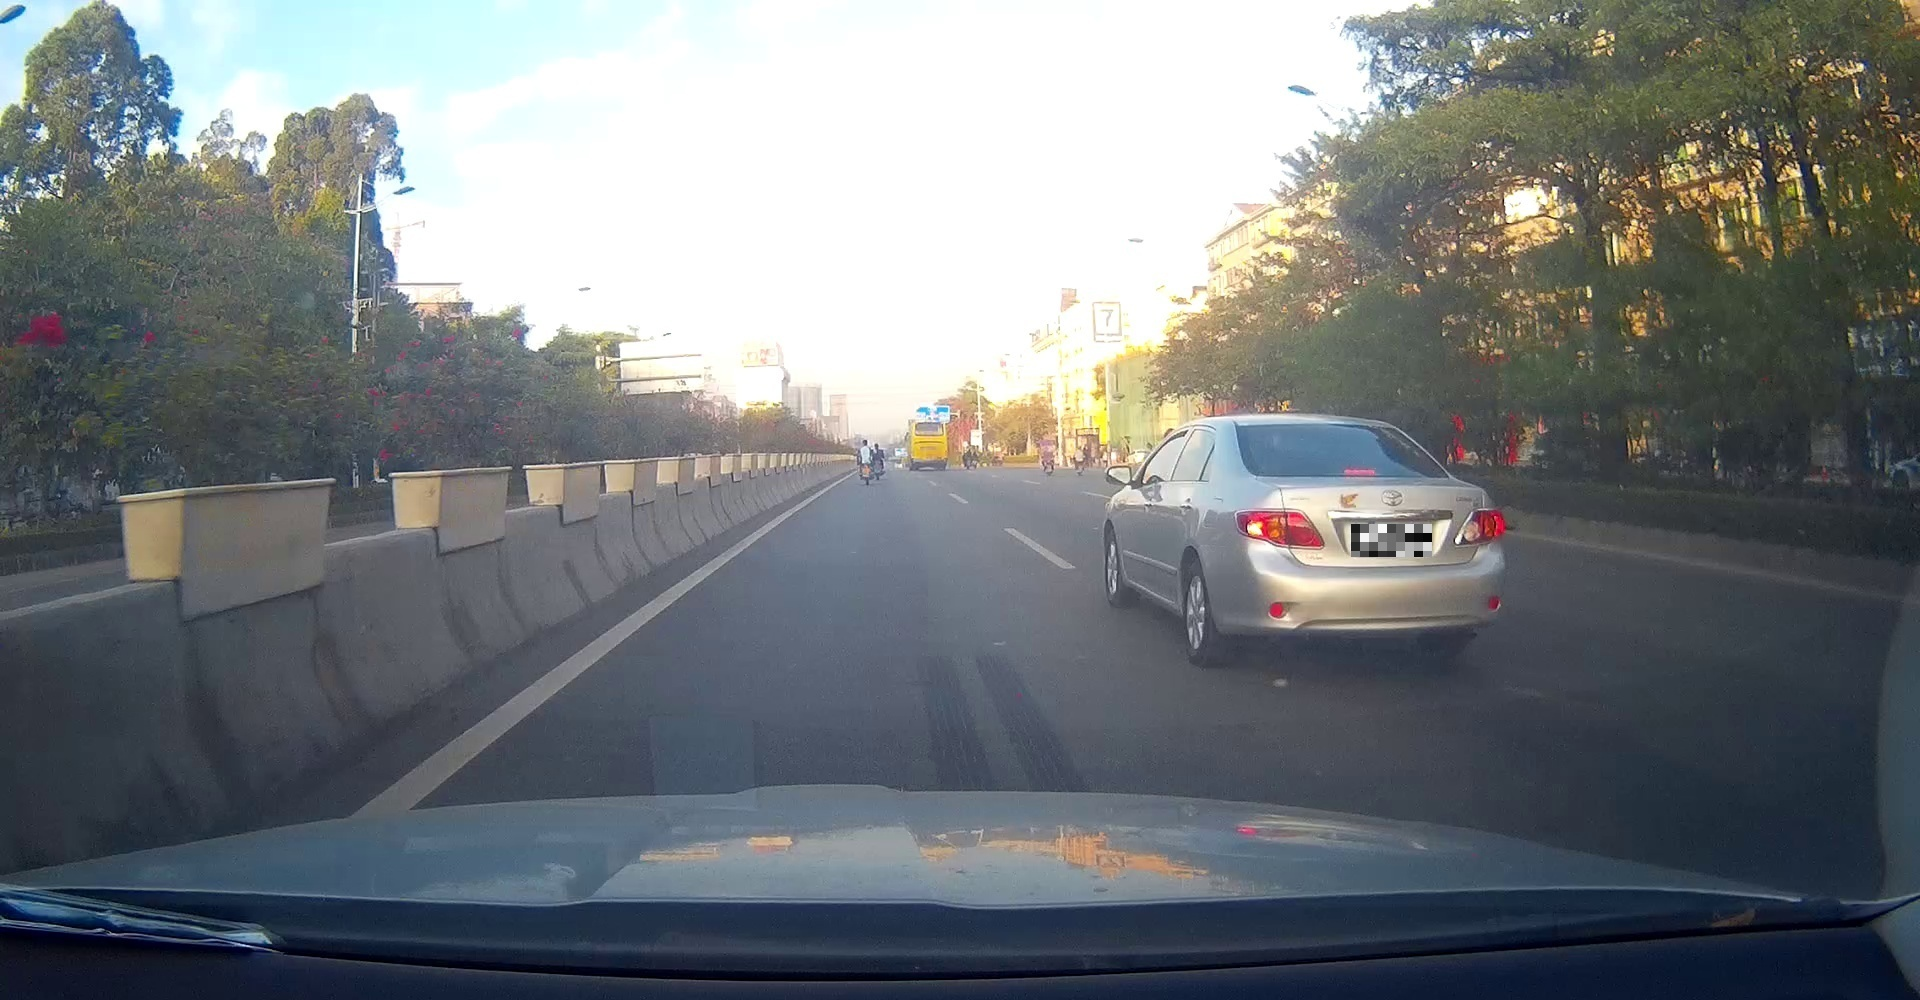L_light: (1234, 508, 1326, 549)
R_light: (1453, 508, 1506, 548)
T_light: (1343, 470, 1375, 476)
day-left: (1220, 412, 1509, 668)
plate_1: (1351, 524, 1432, 557)
